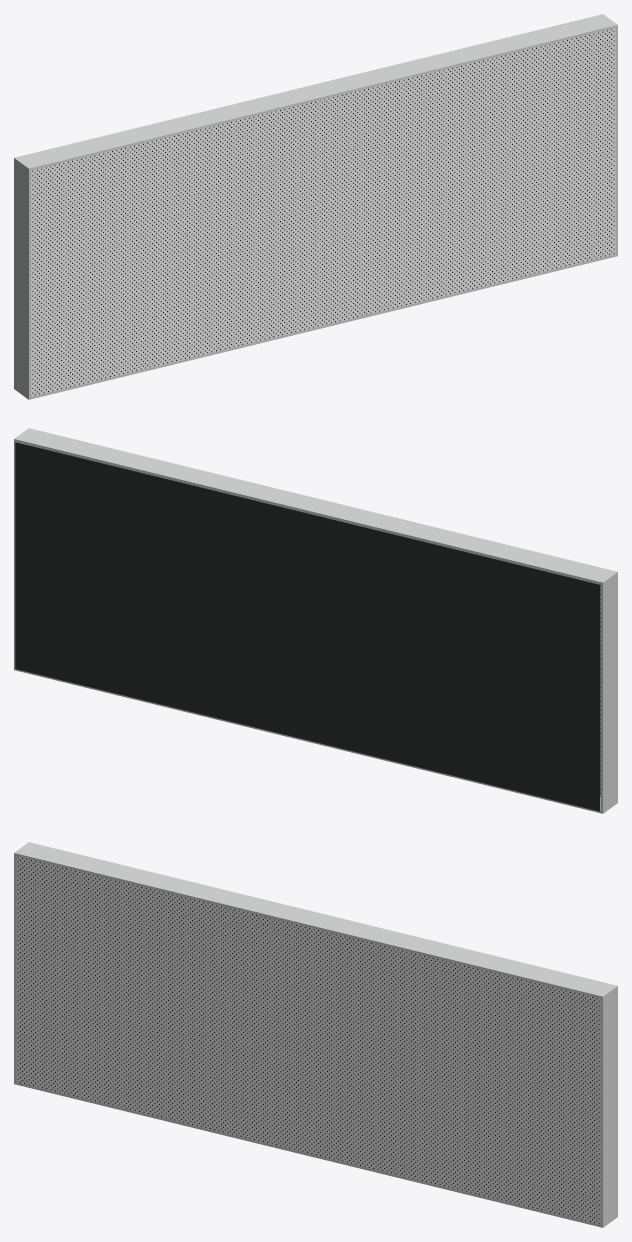
File: ecoclima-egff-800x300.glb
The picture shows the model from 3 angles, top to bottom: view 1: azimuth 30°, elevation 25°; view 2: azimuth 150°, elevation 25°; view 3: azimuth 330°, elevation 25°; orthographic projection.
Parts seen in each view (by area): view 1: Profile_lamiera_forata.002, Profile_ritorno.124, Profile_ritorno.126, Profile_ritorno.125, Profile_ritorno.127; view 2: Interno.033, Profile_ritorno.124, Profile_ritorno.126, Profile_ritorno.125, Profile_lamiera_forata.002; view 3: Profile_lamiera_forata.002, Profile_ritorno.124, Profile_ritorno.127, Profile_ritorno.125, Profile_ritorno.126.
Boxes of the visible parts, <box> form: Profile_lamiera_forata.002: <box>31,28,615,396</box>; Profile_ritorno.124: <box>14,14,617,170</box>; Profile_ritorno.126: <box>14,160,30,397</box>; Profile_ritorno.125: <box>14,254,617,399</box>; Profile_ritorno.127: <box>615,27,617,254</box>; Interno.033: <box>15,442,600,811</box>; Profile_ritorno.124: <box>14,428,617,584</box>; Profile_ritorno.126: <box>601,574,617,811</box>; Profile_ritorno.125: <box>14,668,617,813</box>; Profile_lamiera_forata.002: <box>31,445,600,796</box>; Profile_lamiera_forata.002: <box>16,856,600,1224</box>; Profile_ritorno.124: <box>14,842,617,998</box>; Profile_ritorno.127: <box>601,988,617,1225</box>; Profile_ritorno.125: <box>14,1082,617,1227</box>; Profile_ritorno.126: <box>14,855,16,1082</box>.
Bounding box in the file's own units: 0.8 × 0.3 × 0.037.
Materials: 3 (1 with a texture image).
